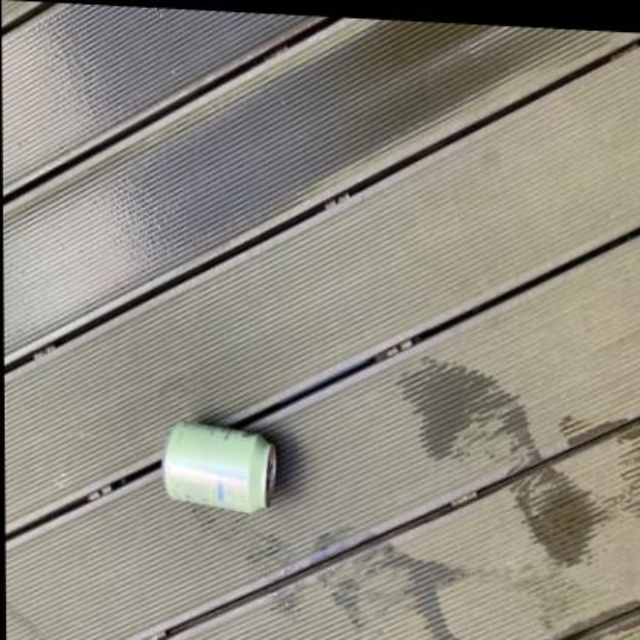trash: (163, 423, 275, 511)
